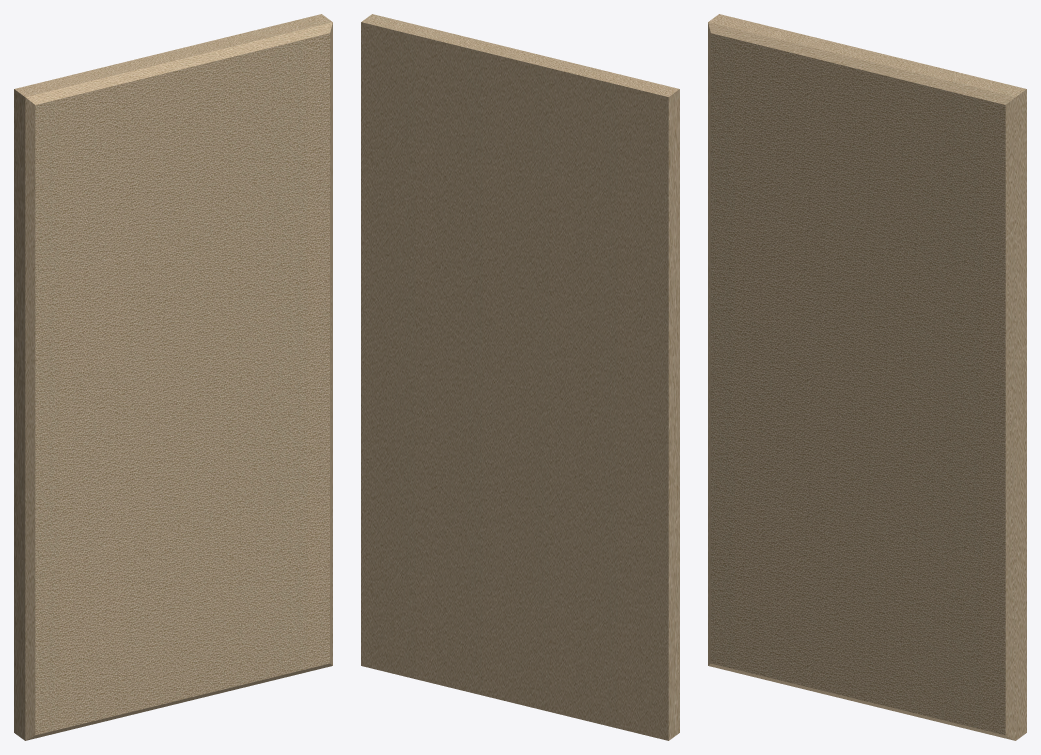
File: RealAB 2x4 Chamfer Edge.glb
3 renders of one model, left to right at view 1: azimuth 30°, elevation 25°; view 2: azimuth 150°, elevation 25°; view 3: azimuth 330°, elevation 25°, orthographic.
Parts seen in each view (by area): view 1: 2x4 Chamfer Edge; view 2: 2x4 Chamfer Edge; view 3: 2x4 Chamfer Edge.
Boxes of the visible parts, <box> form: 2x4 Chamfer Edge: <box>14,14,332,740</box>; 2x4 Chamfer Edge: <box>361,14,679,740</box>; 2x4 Chamfer Edge: <box>708,14,1026,740</box>.
Size of the model in its own units: 24 by 48 by 2.
Materials: 1 (1 with a texture image).
